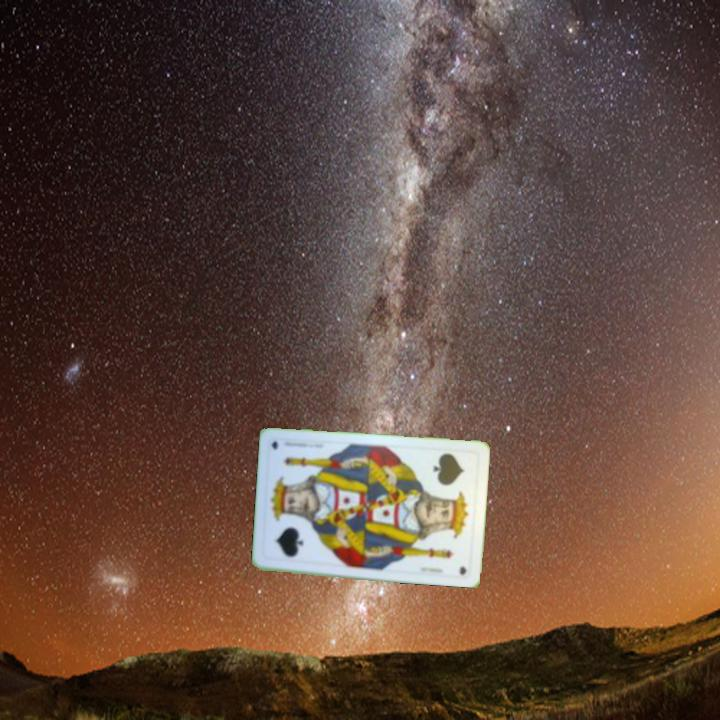s_k.png: (261, 497, 323, 567), (418, 446, 480, 516)
